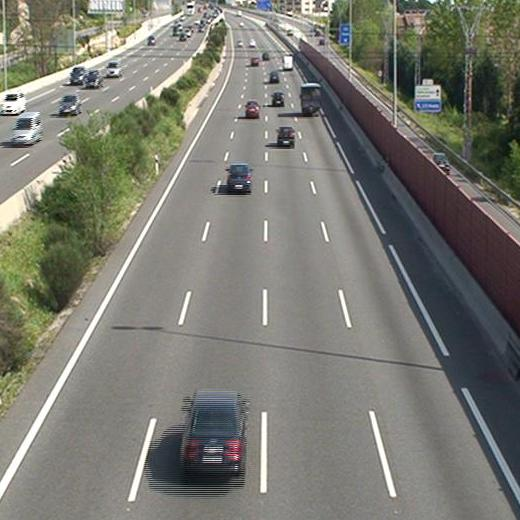car: (179, 389, 249, 476), (223, 163, 253, 192), (276, 126, 295, 147), (244, 100, 260, 118), (271, 91, 286, 106), (268, 70, 279, 82), (247, 56, 260, 66)
small-truck: (300, 84, 322, 115)
van: (281, 55, 294, 71)
